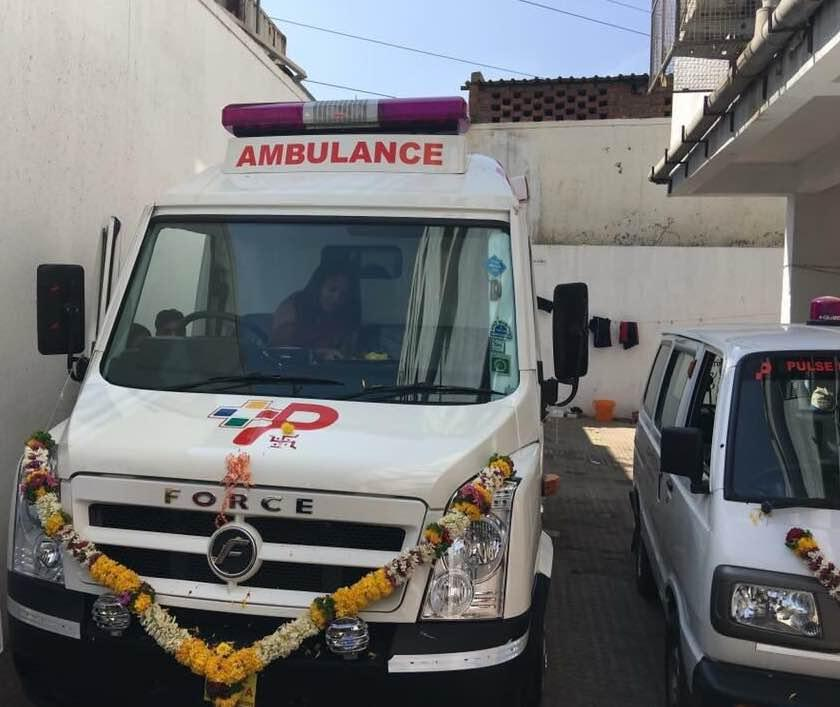Emergency-Vehicles: (29, 9, 600, 707)
